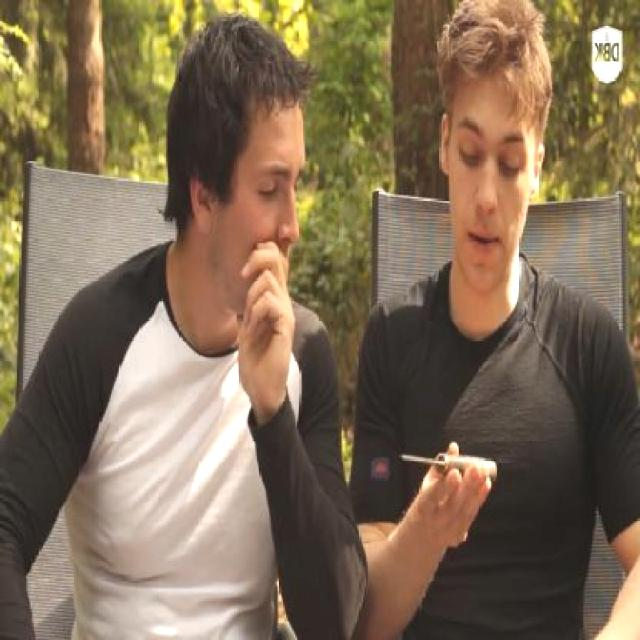knife: (395, 418, 511, 520)
